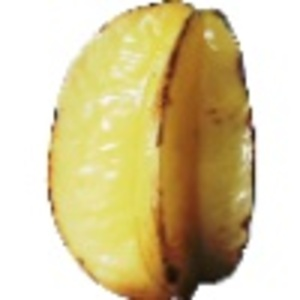carambola: (45, 1, 259, 300)
